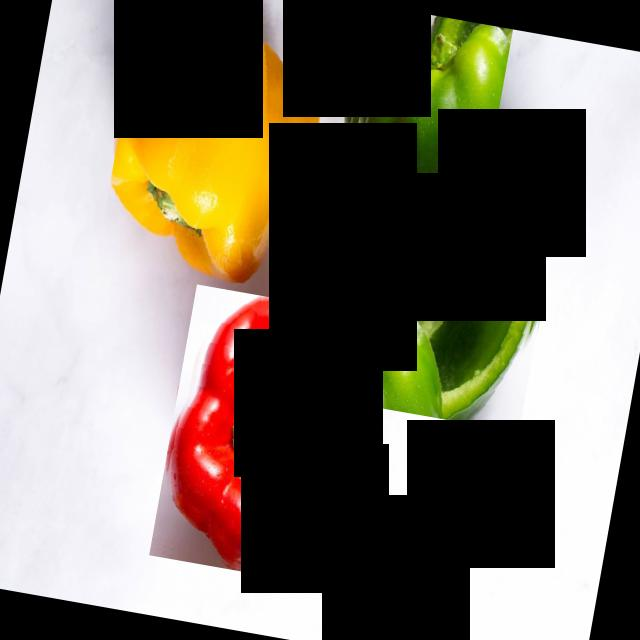pepper: (96, 0, 340, 291), (148, 284, 370, 585), (341, 154, 562, 432), (321, 3, 512, 271)
